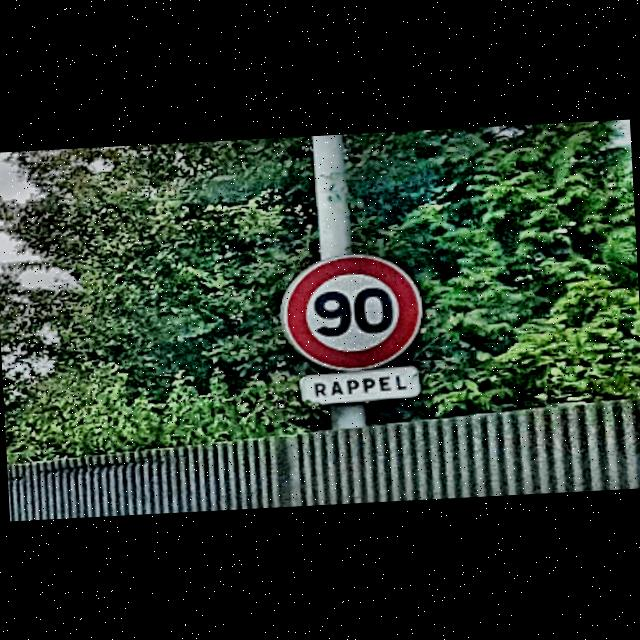speed_90: (280, 249, 428, 375)
